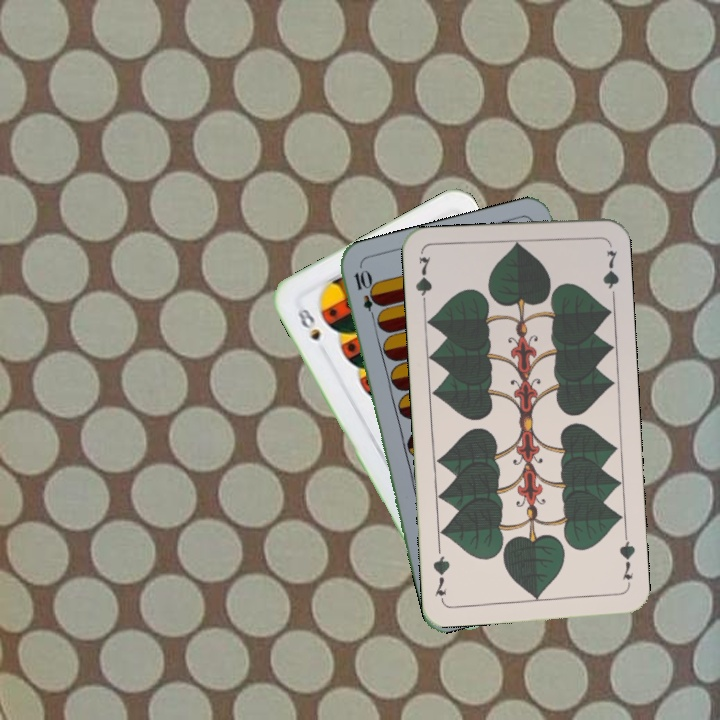E10: (350, 266, 380, 325)
G7: (615, 531, 638, 590), (412, 253, 435, 311)
S8: (291, 298, 324, 344)
